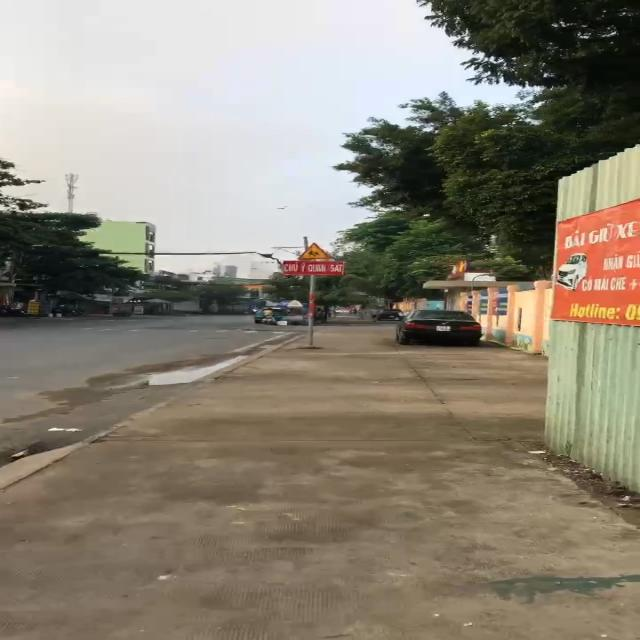Bien bao tre em: (295, 241, 334, 260)
